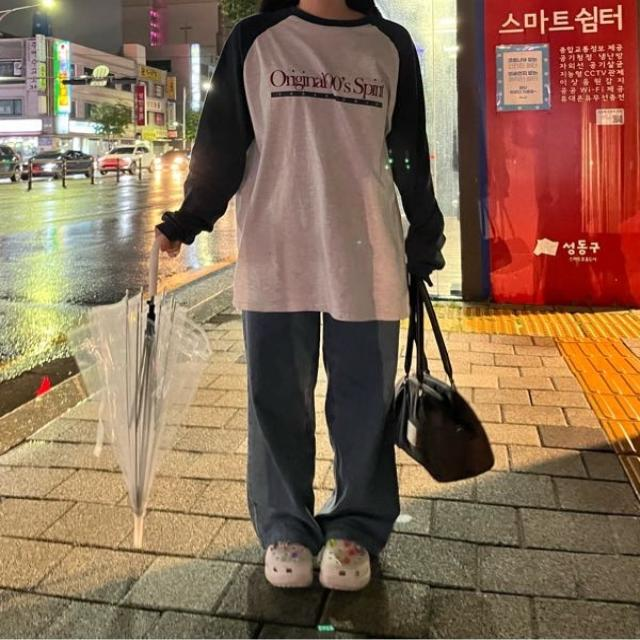longsleeve: (156, 8, 444, 319)
slacks: (249, 308, 406, 558)
